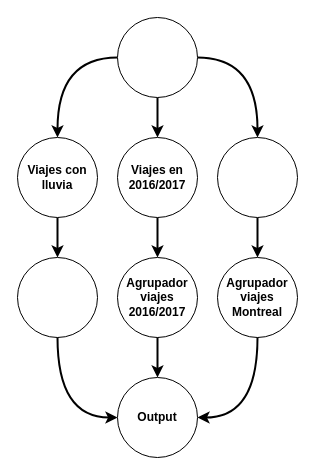
Some shapes in this 315 by 475 pixel diagram are drawn without their labels. Each missing label, with the centre of its shape:
Agrupador viajes con lluvia: the point at 57,297
Input: the point at 157,57
Viajes en Montreal: the point at 257,177
